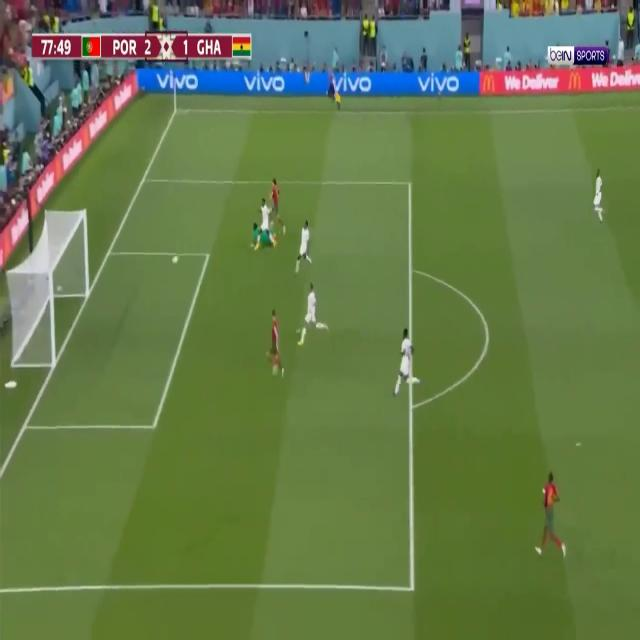ball: (172, 255, 179, 265)
team1: (536, 469, 566, 564), (266, 307, 285, 382), (270, 178, 286, 236)
team2: (390, 323, 420, 400), (296, 284, 328, 348), (590, 168, 607, 229), (259, 197, 274, 255), (297, 218, 309, 280)
